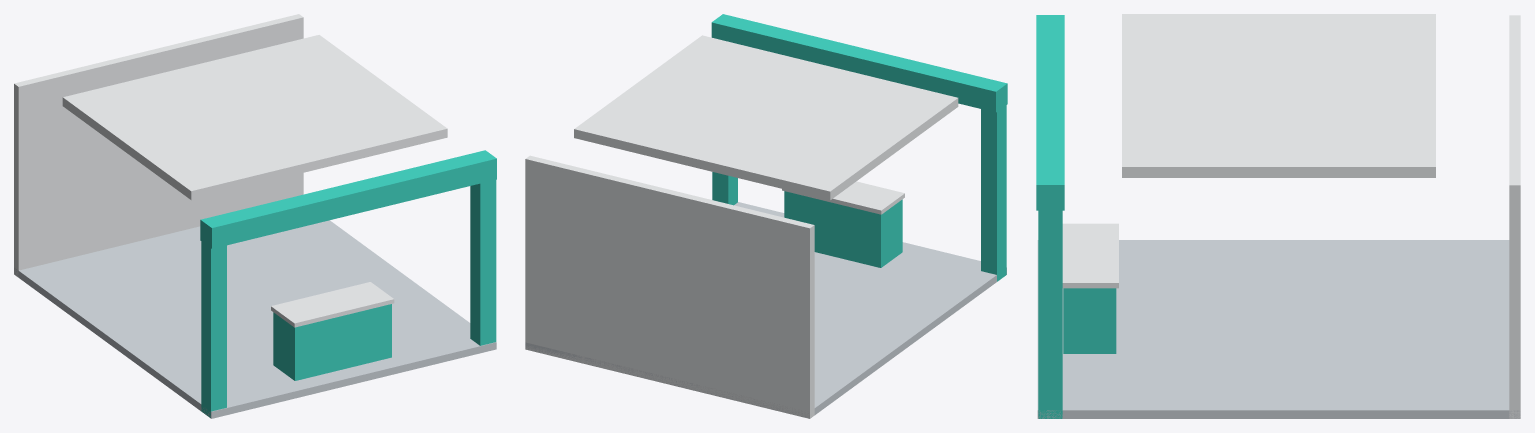
3 renders of one model, left to right at view 1: azimuth 30°, elevation 25°; view 2: azimuth 150°, elevation 25°; view 3: azimuth 270°, elevation 25°, orthographic. The views are drawn at different scales.
Visible parts, largest first — view 1: Exhibition Booth Concept; view 2: Exhibition Booth Concept; view 3: Exhibition Booth Concept.
Boxes of the visible parts, left/top/right/bottom form: Exhibition Booth Concept: left=14, top=14, right=496, bottom=418; Exhibition Booth Concept: left=525, top=14, right=1007, bottom=418; Exhibition Booth Concept: left=1036, top=14, right=1520, bottom=418.
Bounding box in the file's own units: 5 × 3.34 × 6.02.
